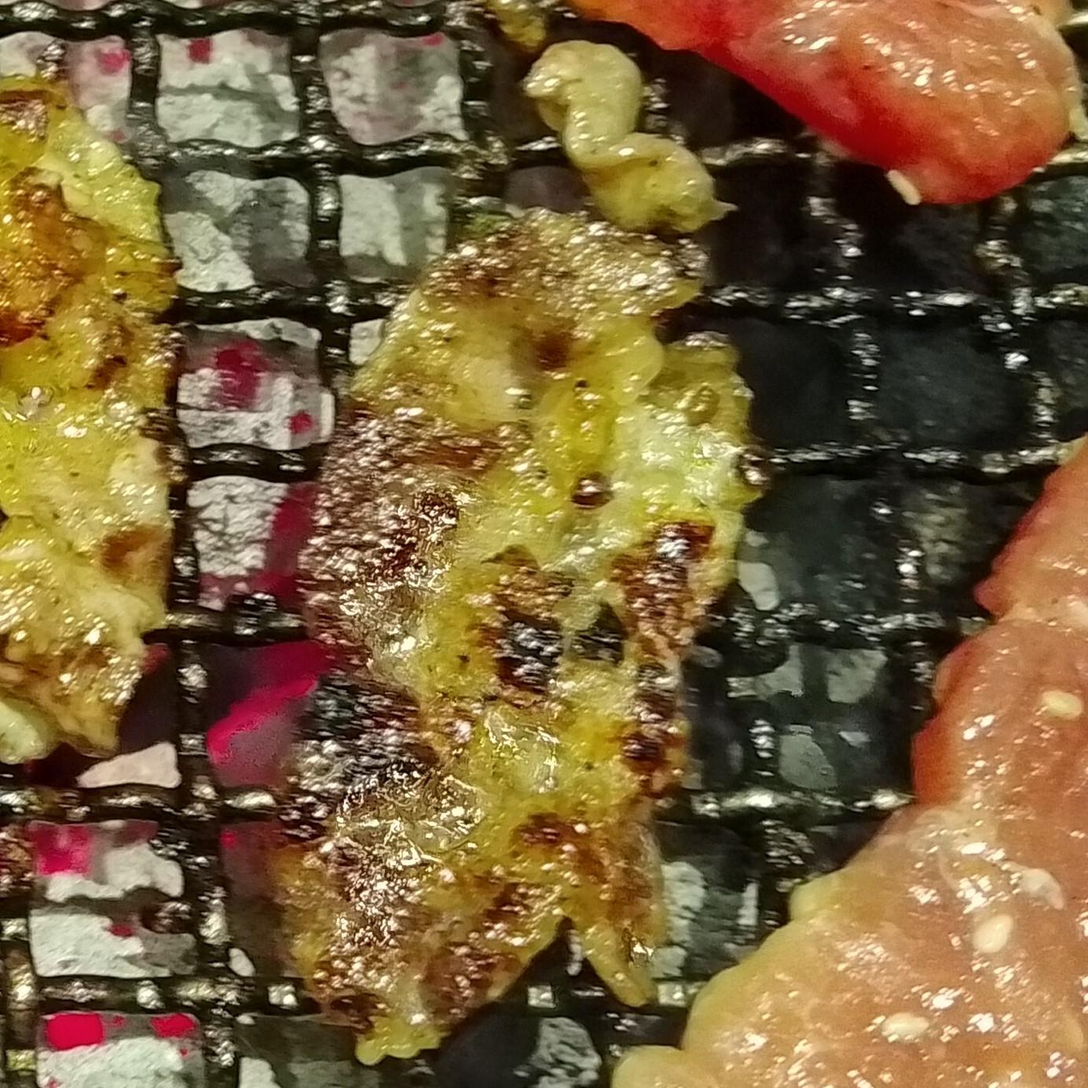Overcooked: (269, 217, 767, 1066), (0, 34, 181, 783)
Undercooked: (609, 435, 1087, 1087), (570, 0, 1086, 210)
